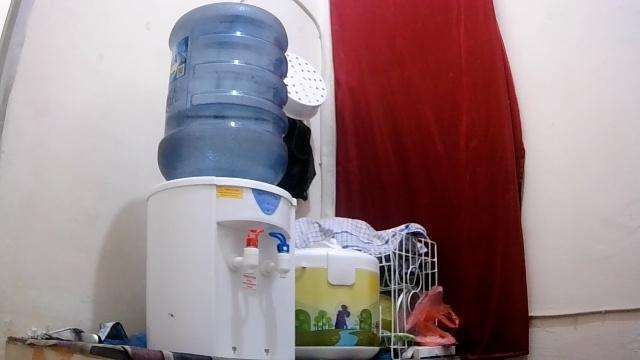Dispenser: (143, 1, 296, 359)
